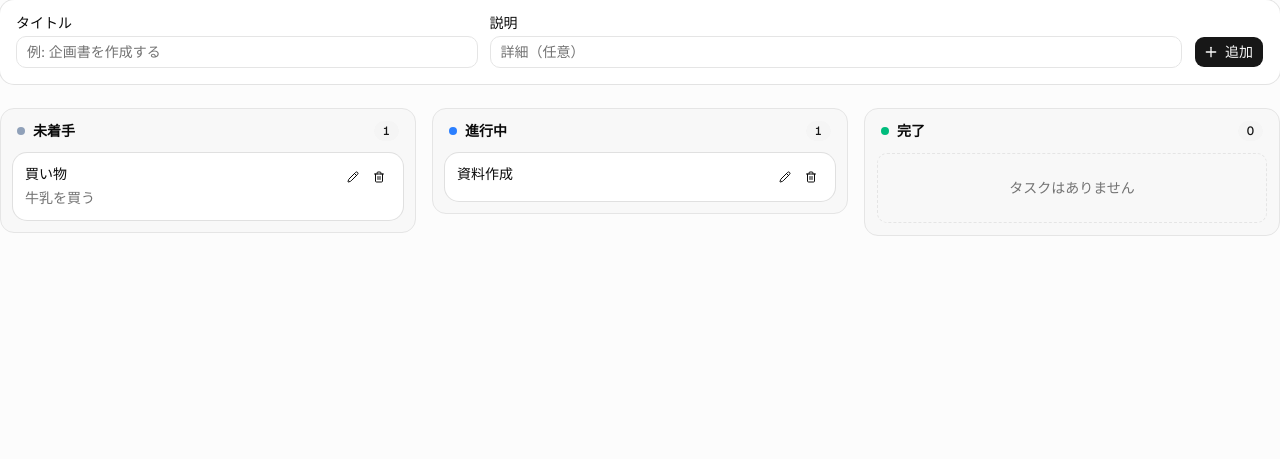
it: 編集 › 編集ボタンを押すと現在の値が入った編集フォームが表示される
The width and height of the screenshot is (1280, 459).
Click the button named "編集" in the row of "買い物". click: coordinates (353, 177)
box: [341,165,365,189]
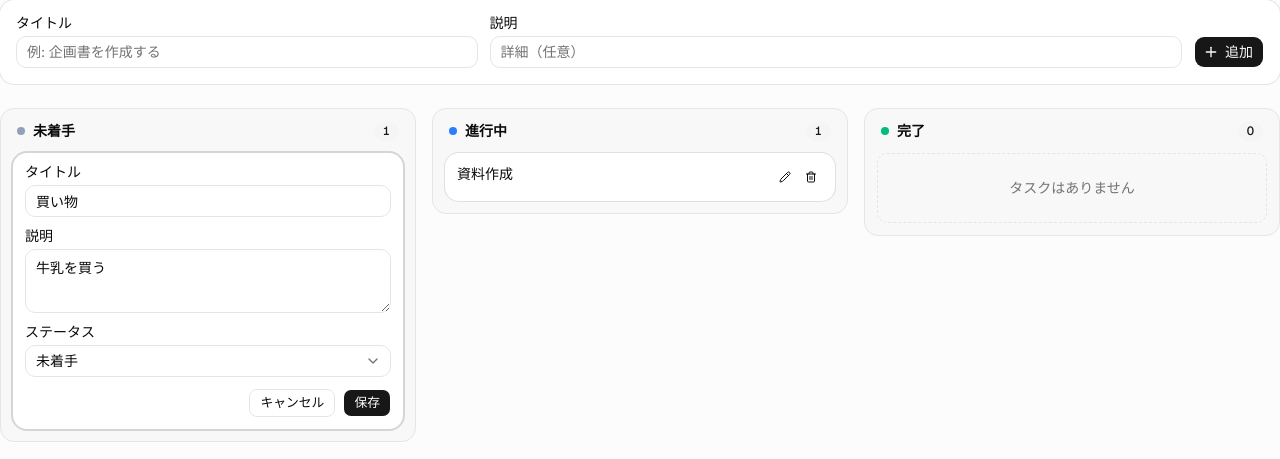
Result: the field labelled "タイトル" below "未着手" holds "買い物" at [25,185,391,217]
Result: the text box labelled "説明" below "未着手" holds "牛乳を買う" at [25,249,391,313]
Result: the dropdown labelled "ステータス" shows "未着手" at [25,345,391,377]
